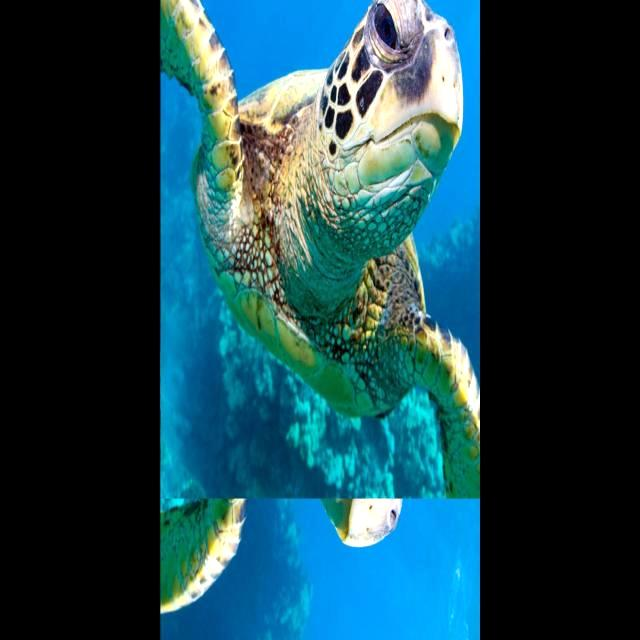Sea turtle: (160, 0, 468, 556)
